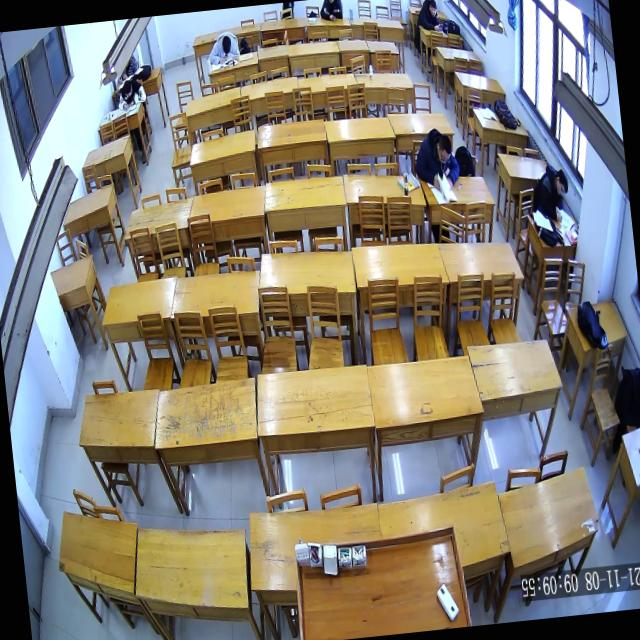bow: (206, 29, 240, 64), (116, 77, 148, 111)
down: (435, 134, 453, 164), (554, 168, 569, 195), (221, 34, 232, 54), (122, 79, 132, 98), (427, 0, 437, 16)
sit: (411, 126, 461, 192), (530, 162, 572, 225), (415, 0, 441, 32)
